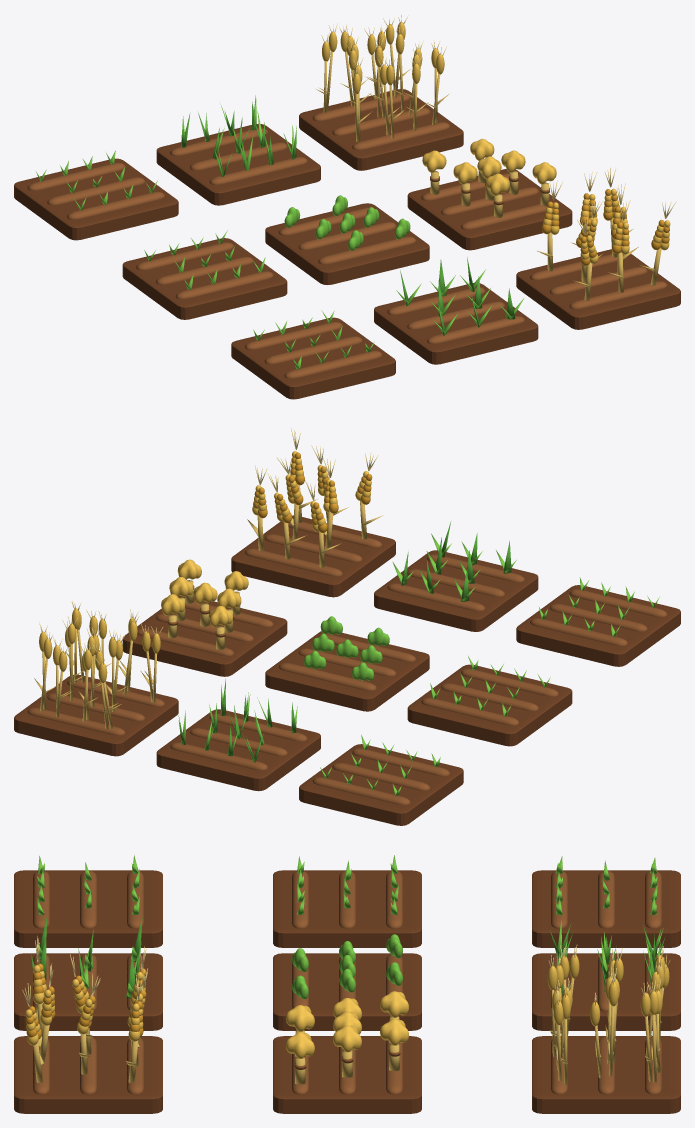
Rendered from ble-planche.glb.
3 renders of one model, top to bottom at view 1: azimuth 30°, elevation 25°; view 2: azimuth 150°, elevation 25°; view 3: azimuth 270°, elevation 25°, orthographic. The views are drawn at different scales.
Visible parts, largest first — view 1: terre.006, terre, terre.003, terre.001, terre.008, terre.007, terre.002, terre.004, terre.005, sillon.019, sillon.001, sillon.014 (+23 smaller); view 2: terre, terre.003, terre.006, terre.001, terre.008, terre.007, terre.002, terre.004, terre.005, sillon.012, sillon.019, sillon (+23 smaller); view 3: terre.008, terre.002, terre.006, terre.003, terre, terre.005, terre.007, terre.004, terre.001, sillon.001, sillon.019, sillon.010 (+23 smaller).
Part boxes in pixels (x1,y1,x2,y2): terre.006: [231, 317, 395, 399]; terre: [14, 158, 178, 240]; terre.003: [122, 238, 287, 319]; terre.001: [156, 123, 320, 205]; terre.008: [516, 249, 680, 329]; terre.007: [374, 283, 538, 364]; terre.002: [299, 89, 463, 170]; terre.004: [265, 203, 429, 284]; terre.005: [407, 169, 572, 250]; sillon.019: [264, 336, 362, 364]; sillon.001: [47, 177, 145, 205]; sillon.014: [318, 236, 416, 264]; terre: [299, 744, 463, 825]; terre.003: [407, 664, 572, 746]; terre.006: [516, 585, 680, 666]; terre.001: [156, 709, 320, 791]; terre.008: [231, 515, 395, 597]; terre.007: [374, 550, 538, 631]; terre.002: [14, 674, 178, 756]; terre.004: [265, 631, 429, 711]; terre.005: [122, 596, 287, 676]; sillon.012: [278, 663, 376, 690]; sillon.019: [549, 603, 647, 631]; sillon: [312, 777, 410, 805]; terre.008: [14, 1036, 162, 1113]; terre.002: [532, 1036, 680, 1113]; terre.006: [14, 870, 162, 947]; terre.003: [273, 870, 421, 947]; terre: [532, 870, 680, 947]; terre.005: [273, 1036, 421, 1113]; terre.007: [14, 953, 162, 1030]; terre.004: [273, 953, 421, 1030]; terre.001: [532, 953, 680, 1030]; sillon.001: [598, 870, 614, 928]; sillon.019: [80, 870, 96, 928]; sillon.010: [339, 870, 355, 928].
Size of the model in its own units: 6.9 by 1.74 by 8.5.
